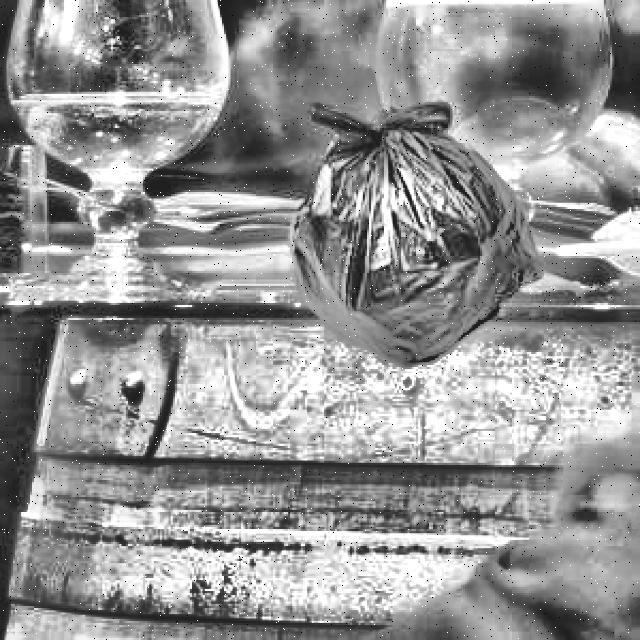Trashbag: (282, 96, 542, 370)
